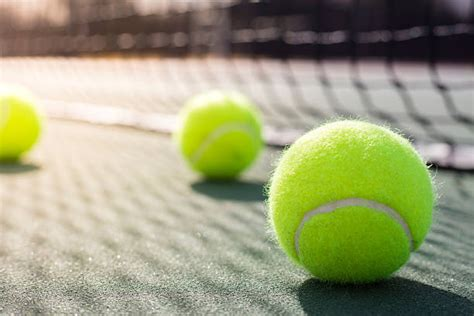tennis_ball: (266, 118, 436, 285), (177, 94, 266, 183), (1, 85, 44, 166)
